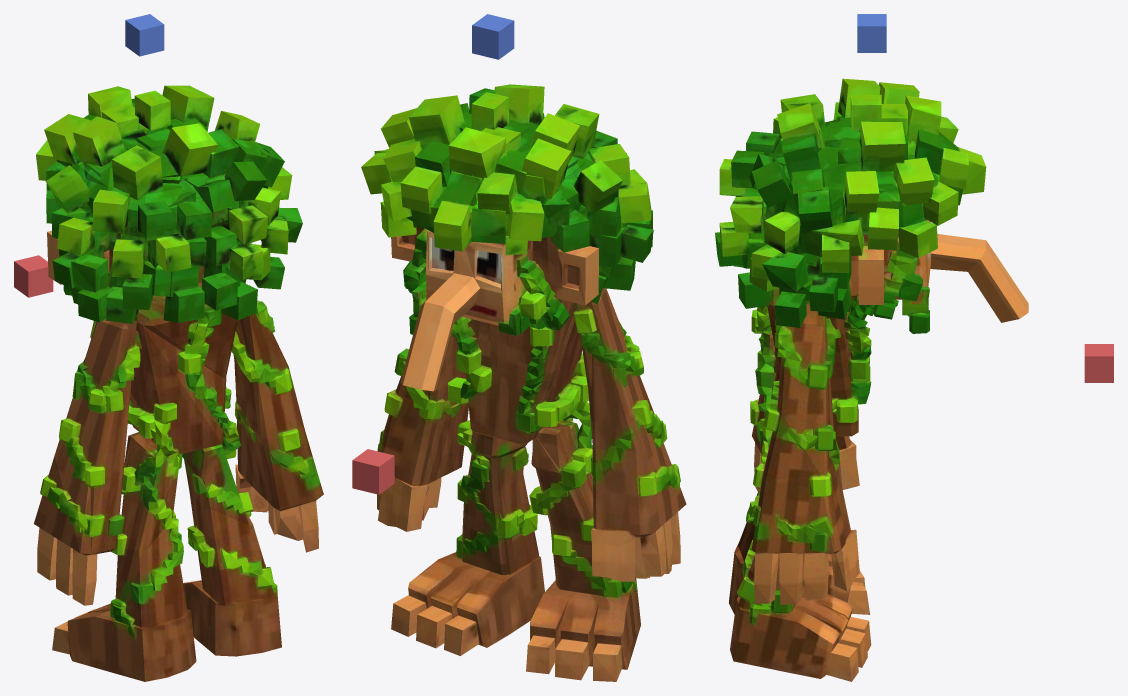
The model's file is BrrBrrPatapim.glb.
The picture shows the model from 3 angles, left to right: view 1: azimuth 30°, elevation 25°; view 2: azimuth 150°, elevation 25°; view 3: azimuth 270°, elevation 25°; orthographic projection. The views are drawn at different scales.
Parts seen in each view (by area): view 1: BrrBrrPatapim_Body, BrrBrrPatapim_Leg2, BrrBrrPatapim_Leg1, BrrBrrPatapim_Top, BrrBrrPatapim_Front; view 2: BrrBrrPatapim_Body, BrrBrrPatapim_Leg1, BrrBrrPatapim_Leg2, BrrBrrPatapim_Front, BrrBrrPatapim_Top; view 3: BrrBrrPatapim_Body, BrrBrrPatapim_Leg1, BrrBrrPatapim_Leg2, BrrBrrPatapim_Front, BrrBrrPatapim_Top.
Part boxes in pixels (x1=…): BrrBrrPatapim_Body: x1=34, y1=85, x2=323, y2=620; BrrBrrPatapim_Leg2: x1=52, y1=529, x2=196, y2=681; BrrBrrPatapim_Leg1: x1=183, y1=491, x2=281, y2=656; BrrBrrPatapim_Top: x1=125, y1=14, x2=164, y2=56; BrrBrrPatapim_Front: x1=14, y1=255, x2=53, y2=297; BrrBrrPatapim_Body: x1=361, y1=84, x2=686, y2=631; BrrBrrPatapim_Leg1: x1=391, y1=474, x2=544, y2=655; BrrBrrPatapim_Leg2: x1=526, y1=521, x2=640, y2=681; BrrBrrPatapim_Front: x1=352, y1=449, x2=394, y2=494; BrrBrrPatapim_Top: x1=472, y1=14, x2=514, y2=59; BrrBrrPatapim_Body: x1=715, y1=78, x2=1028, y2=604; BrrBrrPatapim_Leg1: x1=730, y1=539, x2=871, y2=681; BrrBrrPatapim_Leg2: x1=729, y1=487, x2=869, y2=614; BrrBrrPatapim_Front: x1=1084, y1=344, x2=1113, y2=382; BrrBrrPatapim_Top: x1=857, y1=14, x2=886, y2=52.
Bounding box in the file's own units: 2.65 × 5.72 × 3.4.
Materials: 1 (1 with a texture image).
